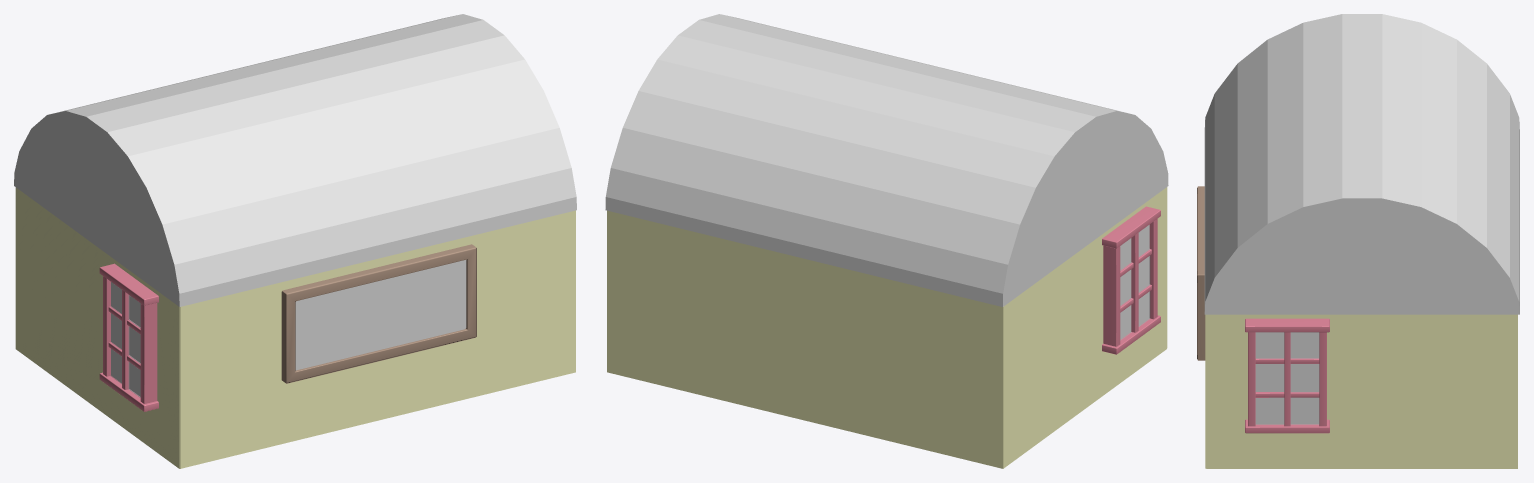
Rendered from Lobby_0216_3.fbx.
3 views of the same model, side by side, from view 1: azimuth 30°, elevation 25°; view 2: azimuth 150°, elevation 25°; view 3: azimuth 270°, elevation 25° (orthographic). The views are drawn at different scales.
Visible parts, largest first — view 1: wall_ceiling, wall_Front, wall, Window_Glass_3, Window_3, Window_1, Window_Glass_1; view 2: wall_ceiling, wall, Window_1, Window_Glass_1; view 3: wall_ceiling, wall_Side, Window_2, Window_Glass_2, wall, Window_3, wall_Front.
Part boxes in pixels (x1=…): wall_ceiling: x1=14, y1=14, x2=576, y2=306; wall_Front: x1=179, y1=210, x2=575, y2=468; wall: x1=15, y1=187, x2=179, y2=468; Window_Glass_3: x1=295, y1=260, x2=466, y2=370; Window_3: x1=281, y1=244, x2=476, y2=383; Window_1: x1=99, y1=263, x2=158, y2=411; Window_Glass_1: x1=111, y1=282, x2=140, y2=396; wall_ceiling: x1=605, y1=14, x2=1168, y2=306; wall: x1=607, y1=187, x2=1166, y2=468; Window_1: x1=1102, y1=206, x2=1160, y2=354; Window_Glass_1: x1=1120, y1=225, x2=1149, y2=339; wall_ceiling: x1=1204, y1=14, x2=1519, y2=314; wall_Side: x1=1208, y1=314, x2=1513, y2=466; Window_2: x1=1245, y1=318, x2=1329, y2=433; Window_Glass_2: x1=1256, y1=332, x2=1318, y2=424; wall: x1=1206, y1=314, x2=1517, y2=468; Window_3: x1=1197, y1=186, x2=1205, y2=360; wall_Front: x1=1205, y1=314, x2=1208, y2=468.
Bounding box in the file's own units: 527 × 335 × 362.
Materials: 67 (35 with a texture image).
